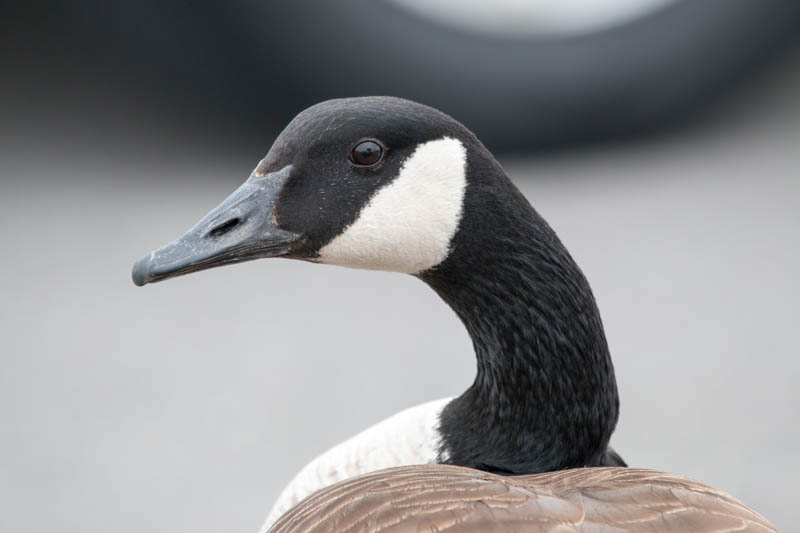goose-head: (130, 94, 508, 287)
